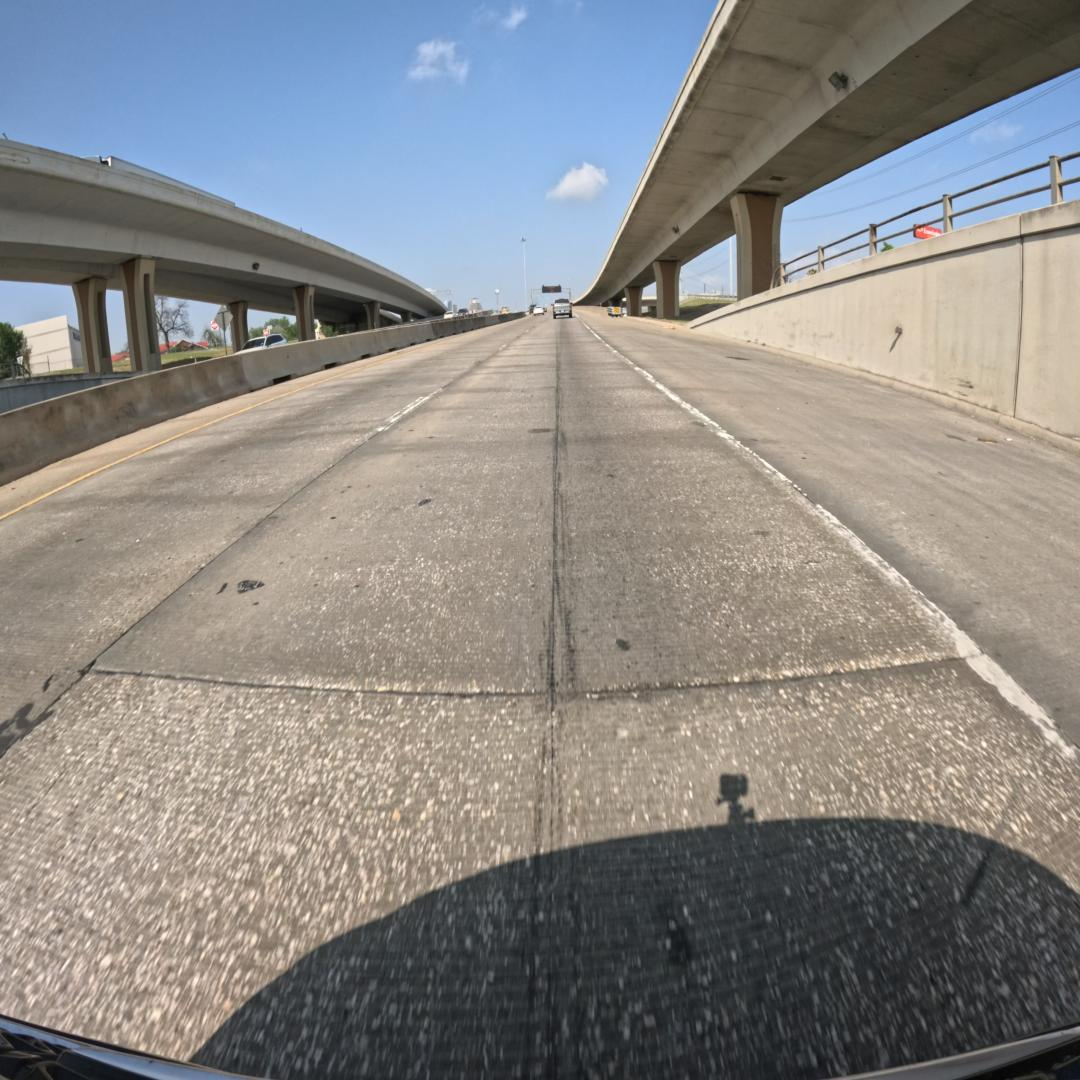lane0: (0, 320, 1080, 1077)
lane1: (0, 322, 526, 756)
